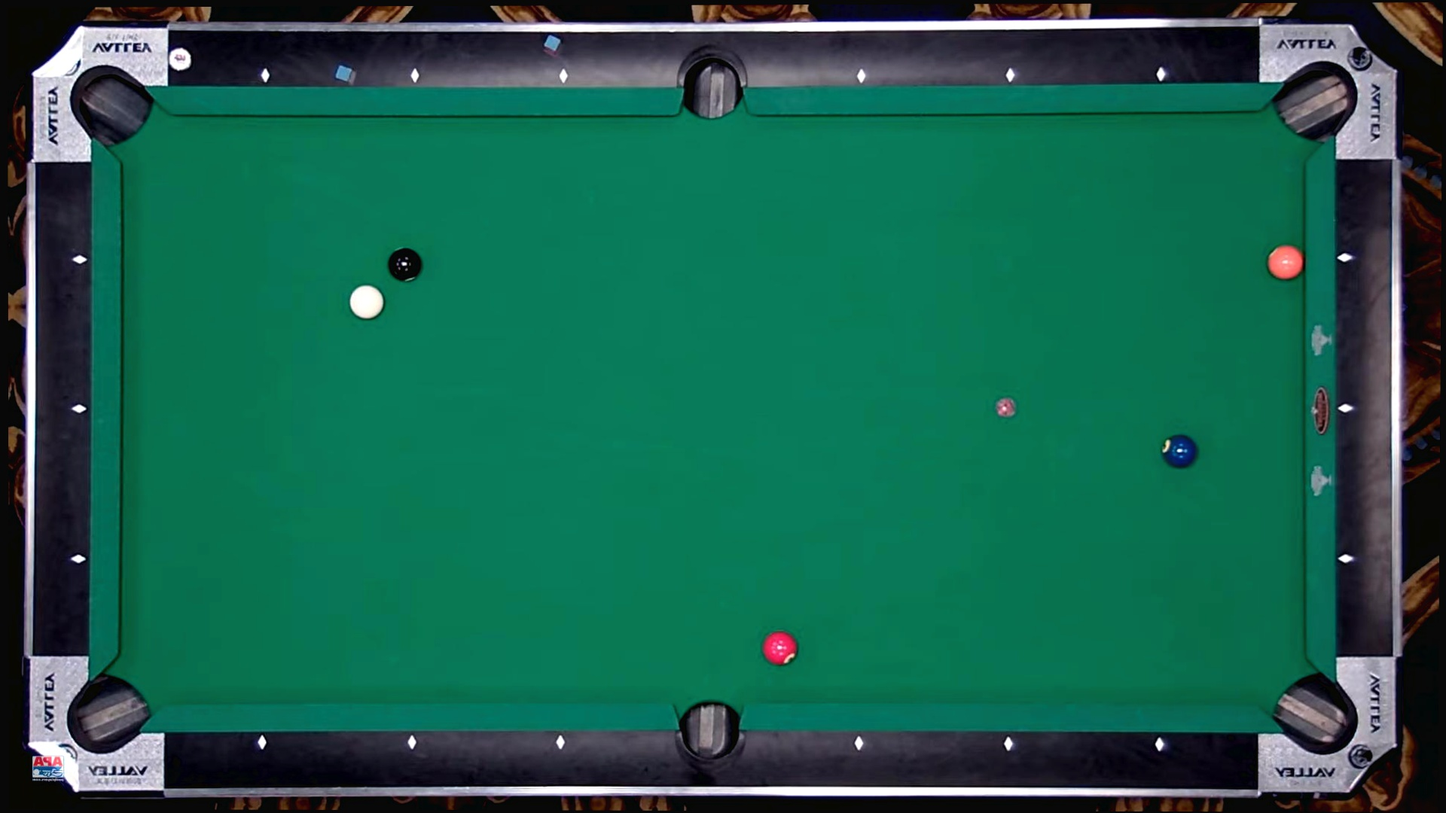Black: (388, 248, 423, 282)
Cue: (349, 284, 384, 320)
Solid: (1341, 403, 1352, 414), (558, 70, 569, 81), (261, 70, 272, 81), (73, 256, 84, 267), (256, 737, 267, 748), (555, 738, 566, 749), (856, 737, 867, 748), (1004, 739, 1015, 750), (1155, 70, 1165, 81), (855, 71, 866, 81), (410, 71, 421, 81), (75, 404, 85, 415), (73, 554, 84, 564), (1155, 739, 1165, 750), (1342, 553, 1352, 563), (1339, 251, 1349, 261), (1006, 71, 1016, 81), (408, 738, 418, 748)
Striped: (1161, 434, 1197, 468), (762, 631, 797, 665), (1267, 246, 1303, 279)
